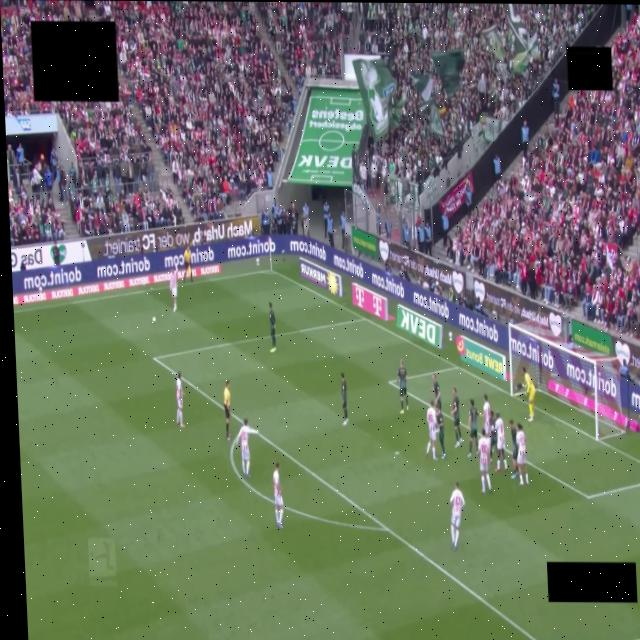ball: (152, 317, 155, 322)
player: (234, 419, 258, 477), (450, 483, 464, 550), (478, 429, 491, 493), (494, 412, 507, 472), (521, 367, 534, 421), (516, 424, 527, 485), (273, 462, 283, 528), (426, 400, 436, 460), (451, 387, 461, 447), (396, 360, 407, 414), (468, 399, 477, 457), (435, 408, 445, 458), (175, 372, 184, 427), (509, 420, 517, 479), (488, 411, 496, 463), (481, 394, 490, 436), (340, 372, 347, 425), (268, 302, 275, 353), (169, 269, 177, 312), (431, 373, 440, 409)
referee: (223, 381, 230, 441)
